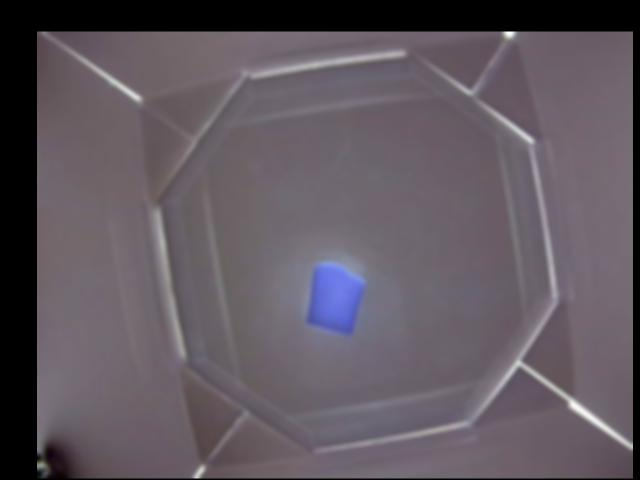Potato: (306, 260, 364, 333)
